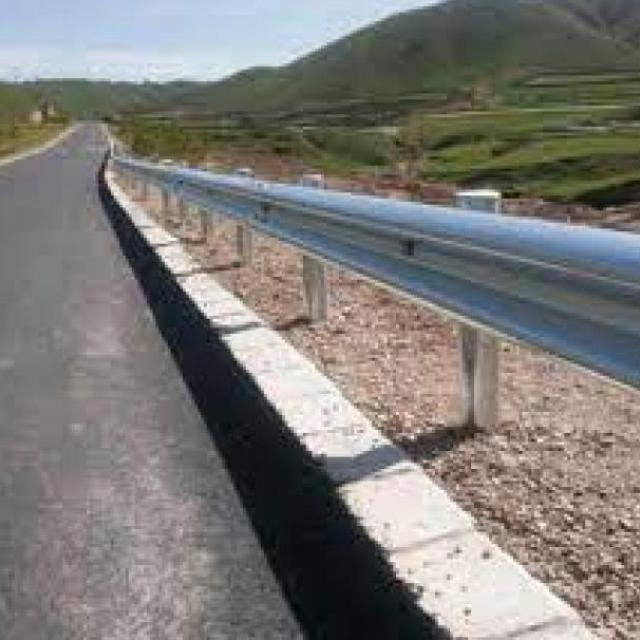Guard rail: (116, 158, 640, 384)
